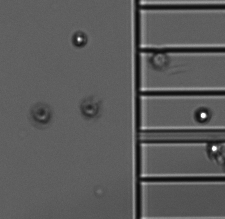Dead Cell: (149, 50, 170, 72), (31, 104, 52, 124), (80, 100, 100, 118)
Living Cell: (71, 30, 90, 48), (194, 106, 212, 124), (206, 140, 222, 157)
